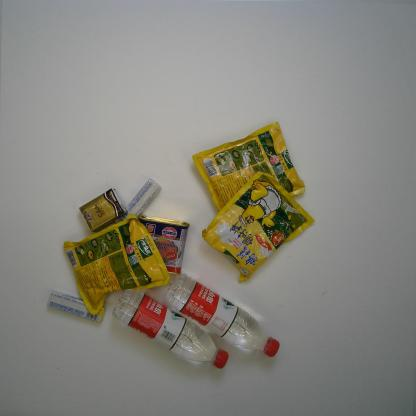Candy: (114, 178, 162, 228), (46, 289, 107, 325)
Canned Food: (134, 214, 189, 276)
Drink: (111, 284, 231, 369), (162, 272, 280, 358)
Seasoner: (202, 171, 314, 283), (191, 119, 305, 219), (62, 214, 171, 316)
Tissue: (78, 188, 127, 235)
